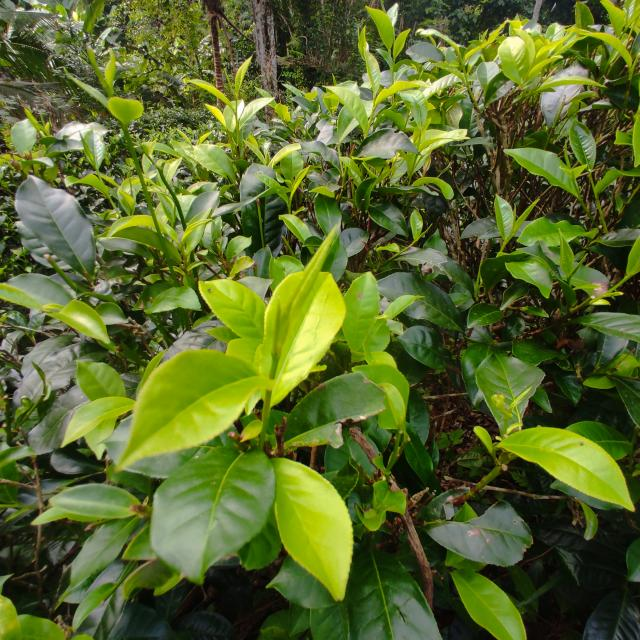unopened_leaf: (264, 216, 346, 360), (264, 296, 293, 372), (78, 131, 100, 168), (220, 63, 239, 100), (561, 138, 578, 174), (508, 204, 519, 234), (126, 170, 137, 199), (169, 197, 180, 226)
